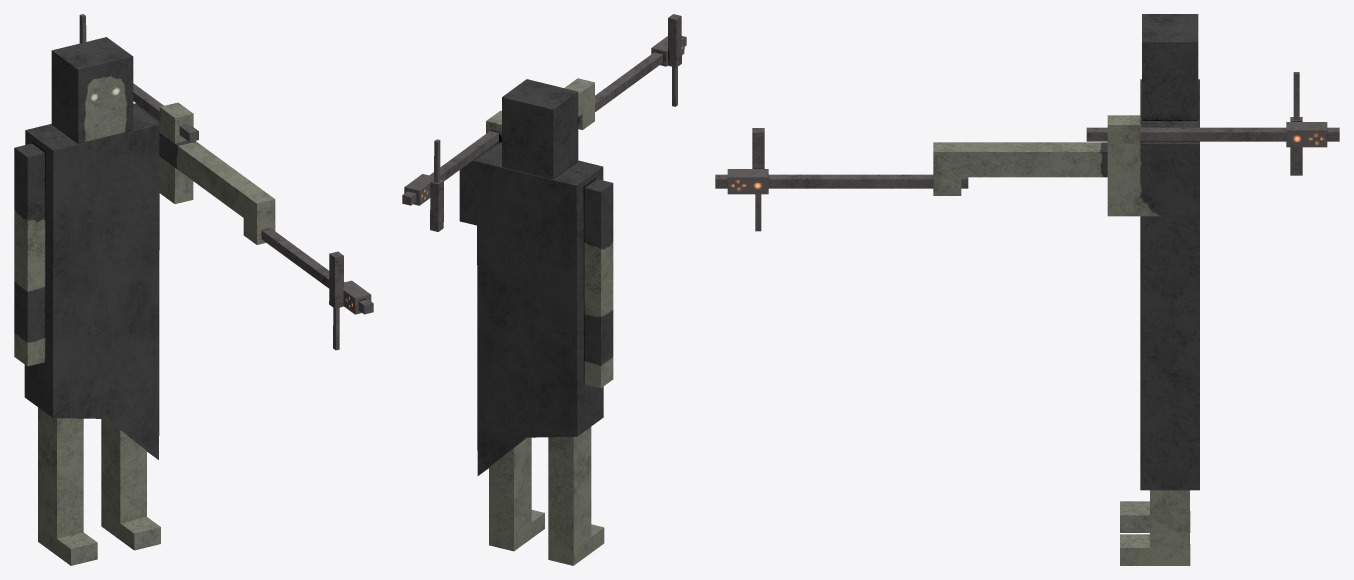
Rendered from Marta.fbx.
3 views of the same model, side by side, from view 1: azimuth 30°, elevation 25°; view 2: azimuth 150°, elevation 25°; view 3: azimuth 270°, elevation 25° (orthographic). The views are drawn at different scales.
Visible parts, largest first — view 1: Marta_Idle, Marta_Hitting; view 2: Marta_Idle, Marta_Hitting; view 3: Marta_Hitting, Marta_Idle.
Boxes of the visible parts, <box> form: Marta_Idle: <box>14,14,198,565</box>; Marta_Hitting: <box>53,125,373,458</box>; Marta_Idle: <box>402,79,613,565</box>; Marta_Hitting: <box>477,14,686,474</box>; Marta_Hitting: <box>715,128,1199,490</box>; Marta_Idle: <box>1086,14,1339,565</box>.
Bounding box in the file's own units: 58.64 × 189 × 208.
